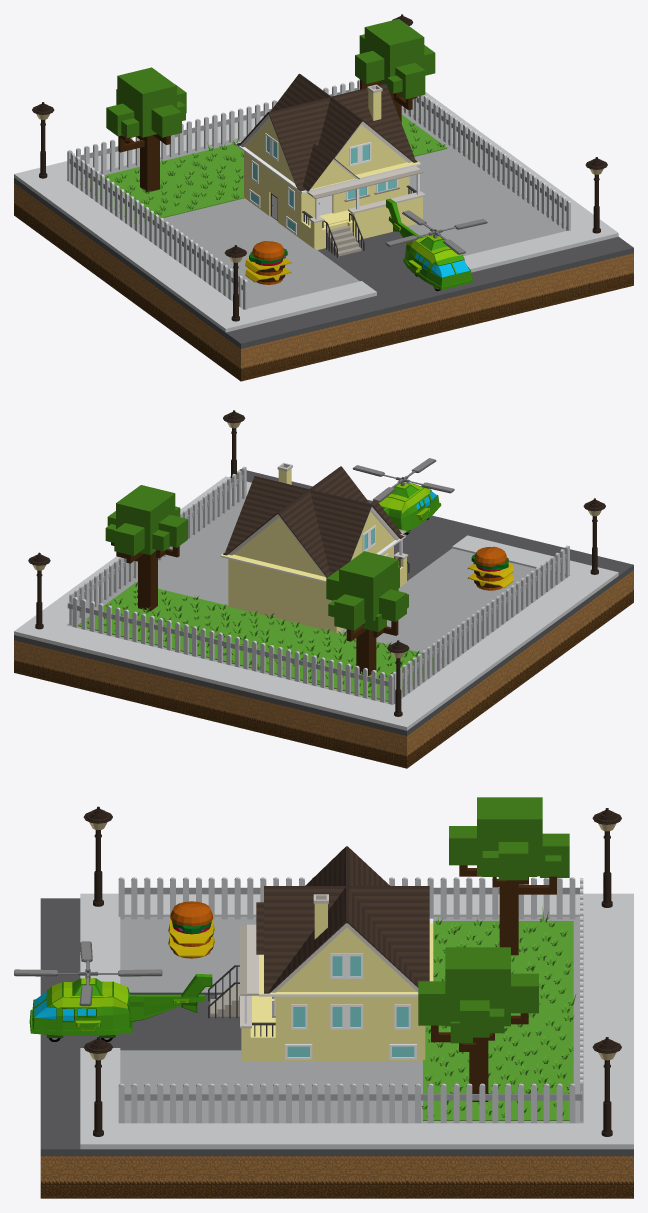
The picture shows the model from 3 angles, top to bottom: view 1: azimuth 30°, elevation 25°; view 2: azimuth 150°, elevation 25°; view 3: azimuth 270°, elevation 25°; orthographic projection. The views are drawn at different scales.
Visible parts, largest first — view 1: Cube.004, Cube.1555, VEHICLES_HELICOPTER, OBJRANDOM_HAMBURGER; view 2: Cube.004, Cube.1555, VEHICLES_HELICOPTER, OBJRANDOM_HAMBURGER; view 3: Cube.004, Cube.1555, VEHICLES_HELICOPTER, OBJRANDOM_HAMBURGER.
Boxes of the visible parts, x1,y1,x2,y2 form: Cube.004: [14, 14, 633, 381]; Cube.1555: [235, 73, 425, 257]; VEHICLES_HELICOPTER: [385, 198, 487, 291]; OBJRANDOM_HAMBURGER: [245, 241, 291, 284]; Cube.004: [14, 410, 633, 768]; Cube.1555: [220, 462, 409, 632]; VEHICLES_HELICOPTER: [352, 458, 454, 534]; OBJRANDOM_HAMBURGER: [467, 546, 513, 590]; Cube.004: [40, 797, 633, 1198]; Cube.1555: [208, 846, 433, 1060]; VEHICLES_HELICOPTER: [14, 941, 212, 1041]; OBJRANDOM_HAMBURGER: [168, 901, 214, 958].
Bounding box in the file's own units: 4000 × 1600 × 4179.
Materials: 39 (3 with a texture image).
